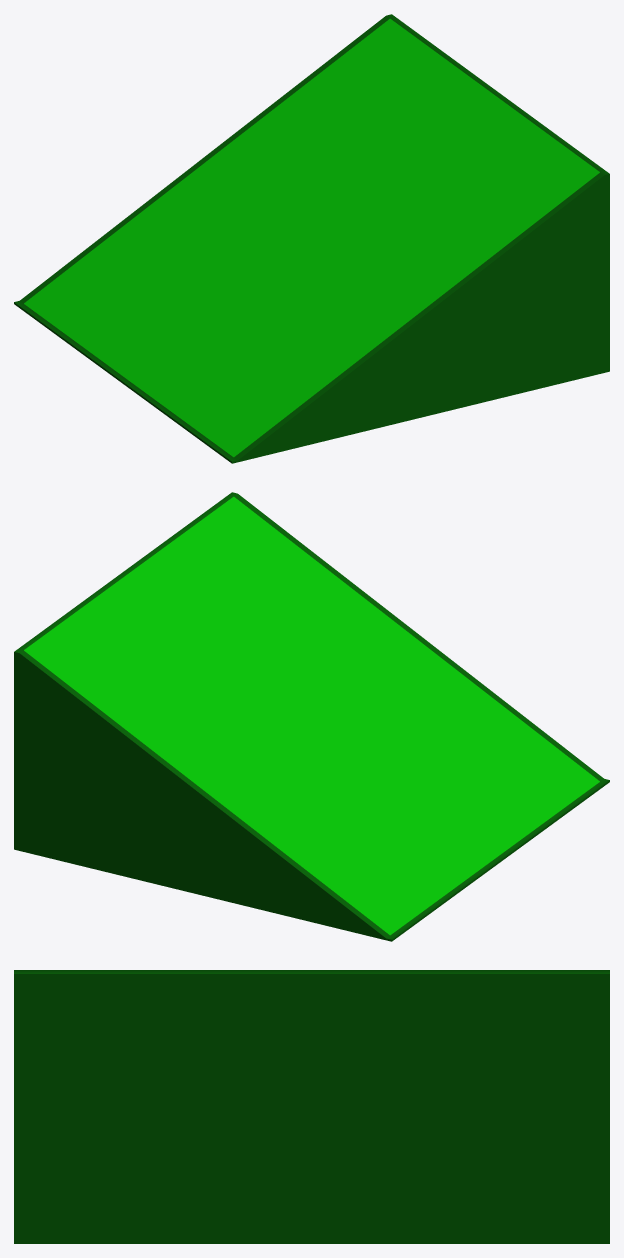
The model's file is Casilla 1.fbx.
3 renders of one model, top to bottom at view 1: azimuth 30°, elevation 25°; view 2: azimuth 150°, elevation 25°; view 3: azimuth 270°, elevation 25°, orthographic. The views are drawn at different scales.
Parts seen in each view (by area): view 1: pCube2; view 2: pCube2; view 3: pCube2.
Boxes of the visible parts, <box> form: pCube2: <box>14,14,609,463</box>; pCube2: <box>14,492,609,941</box>; pCube2: <box>14,970,609,1243</box>.
Bounding box in the file's own units: 200 × 100 × 200.
